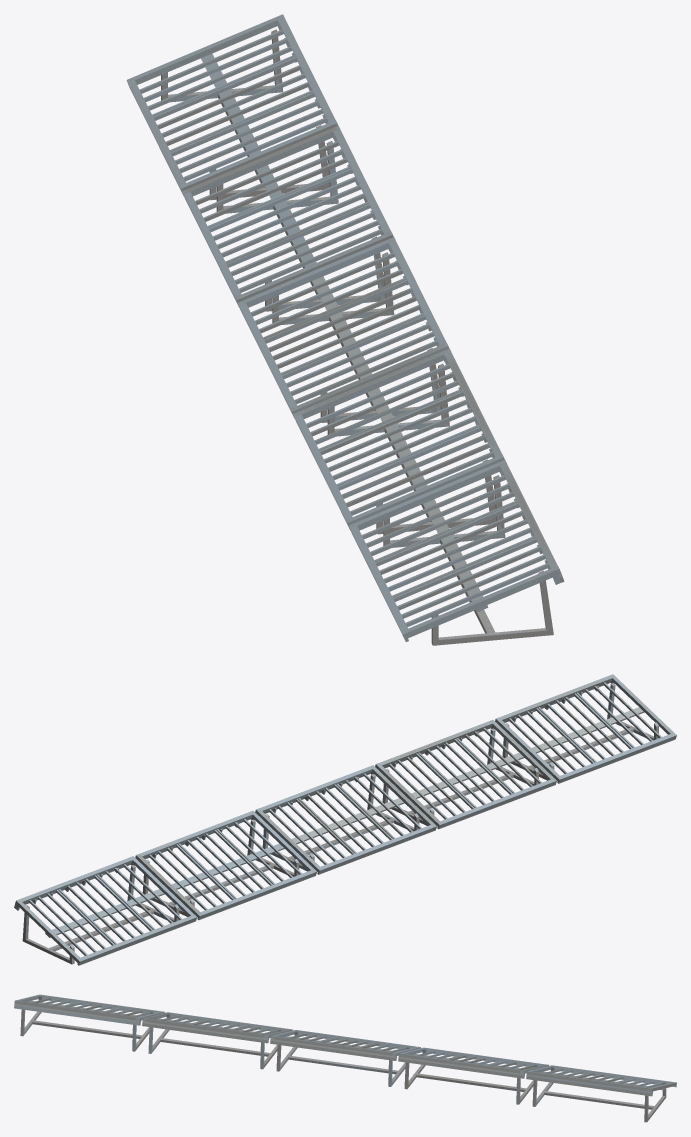
File: sun_panels_frames.obj
3 views of the same model, one above another, from view 1: azimuth 30°, elevation 25°; view 2: azimuth 150°, elevation 25°; view 3: azimuth 270°, elevation 25° (orthographic). The views are drawn at different scales.
Visible parts, largest first — view 1: Mesh209 Group74 Group66 solar4 Group1 Model, Mesh3 Group4 Group3 solar1 Group1 Model, Mesh259 Group88 Group87 solar5 Group1 Model, Mesh67 Group25 Group24 solar2 Group1 Model, Mesh195 Group67 Group66 solar4 Group1 Model, Mesh131 Group46 Group45 solar3 Group1 Model, Mesh253 Group84 solar4 Group1 Model, Mesh17 Group11 Group3 solar1 Group1 Model, Mesh81 Group32 Group24 solar2 Group1 Model, Mesh273 Group95 Group87 solar5 Group1 Model, Mesh145 Group53 Group45 solar3 Group1 Model, Mesh263 Group90 Group87 solar5 Group1 Model (+9 smaller); view 2: Mesh263 Group90 Group87 solar5 Group1 Model, Mesh135 Group48 Group45 solar3 Group1 Model, Mesh7 Group6 Group3 solar1 Group1 Model, Mesh199 Group69 Group66 solar4 Group1 Model, Mesh71 Group27 Group24 solar2 Group1 Model, Mesh79 Group31 Group24 solar2 Group1 Model, Mesh15 Group10 Group3 solar1 Group1 Model, Mesh207 Group73 Group66 solar4 Group1 Model, Mesh143 Group52 Group45 solar3 Group1 Model, Mesh271 Group94 Group87 solar5 Group1 Model, Mesh83 Group33 Group24 solar2 Group1 Model, Mesh211 Group75 Group66 solar4 Group1 Model (+14 smaller); view 3: Mesh191 Group64 solar3 Group1 Model, Mesh127 Group43 solar2 Group1 Model, Mesh63 Group22 solar1 Group1 Model, Mesh255 Group85 solar4 Group1 Model, Mesh15 Group10 Group3 solar1 Group1 Model, Mesh143 Group52 Group45 solar3 Group1 Model, Mesh319 Group106 solar5 Group1 Model, Mesh207 Group73 Group66 solar4 Group1 Model, Mesh271 Group94 Group87 solar5 Group1 Model, Mesh79 Group31 Group24 solar2 Group1 Model, Mesh203 Group71 Group66 solar4 Group1 Model, Mesh267 Group92 Group87 solar5 Group1 Model (+23 smaller).
Part boxes in pixels (left/top/right/bottom): Mesh209 Group74 Group66 solar4 Group1 Model: left=401, top=566, right=561, bottom=639; Mesh3 Group4 Group3 solar1 Group1 Model: left=237, top=237, right=395, bottom=307; Mesh259 Group88 Group87 solar5 Group1 Model: left=182, top=125, right=339, bottom=197; Mesh67 Group25 Group24 solar2 Group1 Model: left=126, top=14, right=284, bottom=84; Mesh195 Group67 Group66 solar4 Group1 Model: left=349, top=460, right=506, bottom=530; Mesh131 Group46 Group45 solar3 Group1 Model: left=293, top=348, right=450, bottom=419; Mesh253 Group84 solar4 Group1 Model: left=431, top=570, right=553, bottom=645; Mesh17 Group11 Group3 solar1 Group1 Model: left=290, top=343, right=449, bottom=416; Mesh81 Group32 Group24 solar2 Group1 Model: left=179, top=120, right=338, bottom=193; Mesh273 Group95 Group87 solar5 Group1 Model: left=235, top=231, right=393, bottom=304; Mesh145 Group53 Group45 solar3 Group1 Model: left=346, top=454, right=504, bottom=527; Mesh263 Group90 Group87 solar5 Group1 Model: left=183, top=191, right=241, bottom=299; Mesh263 Group90 Group87 solar5 Group1 Model: left=200, top=870, right=313, bottom=917; Mesh135 Group48 Group45 solar3 Group1 Model: left=440, top=779, right=553, bottom=826; Mesh7 Group6 Group3 solar1 Group1 Model: left=320, top=825, right=433, bottom=871; Mesh199 Group69 Group66 solar4 Group1 Model: left=560, top=734, right=673, bottom=780; Mesh71 Group27 Group24 solar2 Group1 Model: left=81, top=916, right=193, bottom=962; Mesh79 Group31 Group24 solar2 Group1 Model: left=19, top=857, right=132, bottom=903; Mesh15 Group10 Group3 solar1 Group1 Model: left=259, top=766, right=372, bottom=812; Mesh207 Group73 Group66 solar4 Group1 Model: left=499, top=675, right=612, bottom=721; Mesh143 Group52 Group45 solar3 Group1 Model: left=379, top=721, right=492, bottom=766; Mesh271 Group94 Group87 solar5 Group1 Model: left=139, top=812, right=252, bottom=857; Mesh83 Group33 Group24 solar2 Group1 Model: left=45, top=889, right=164, bottom=937; Mesh211 Group75 Group66 solar4 Group1 Model: left=531, top=707, right=644, bottom=753; Mesh191 Group64 solar3 Group1 Model: left=160, top=1038, right=270, bottom=1056; Mesh127 Group43 solar2 Group1 Model: left=544, top=1091, right=654, bottom=1109; Mesh63 Group22 solar1 Group1 Model: left=288, top=1055, right=398, bottom=1074; Mesh255 Group85 solar4 Group1 Model: left=32, top=1020, right=142, bottom=1038; Mesh15 Group10 Group3 solar1 Group1 Model: left=274, top=1036, right=392, bottom=1055; Mesh143 Group52 Group45 solar3 Group1 Model: left=146, top=1018, right=264, bottom=1037; Mesh319 Group106 solar5 Group1 Model: left=416, top=1073, right=526, bottom=1091; Mesh207 Group73 Group66 solar4 Group1 Model: left=18, top=1001, right=136, bottom=1020; Mesh271 Group94 Group87 solar5 Group1 Model: left=402, top=1054, right=520, bottom=1073; Mesh79 Group31 Group24 solar2 Group1 Model: left=530, top=1071, right=648, bottom=1090; Mesh203 Group71 Group66 solar4 Group1 Model: left=14, top=1005, right=139, bottom=1025; Mesh267 Group92 Group87 solar5 Group1 Model: left=398, top=1058, right=523, bottom=1078.
Bounding box in the file's own units: 10.19 × 1.38 × 23.56.
